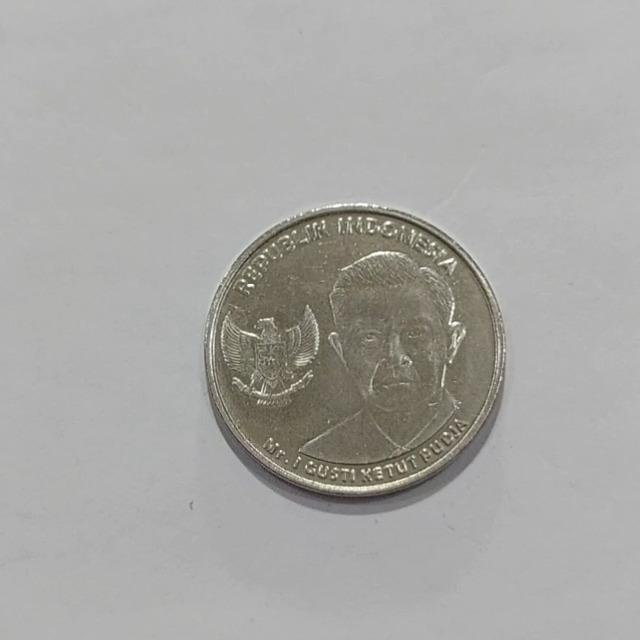Rp100: (203, 201, 506, 500), (292, 247, 470, 467)
